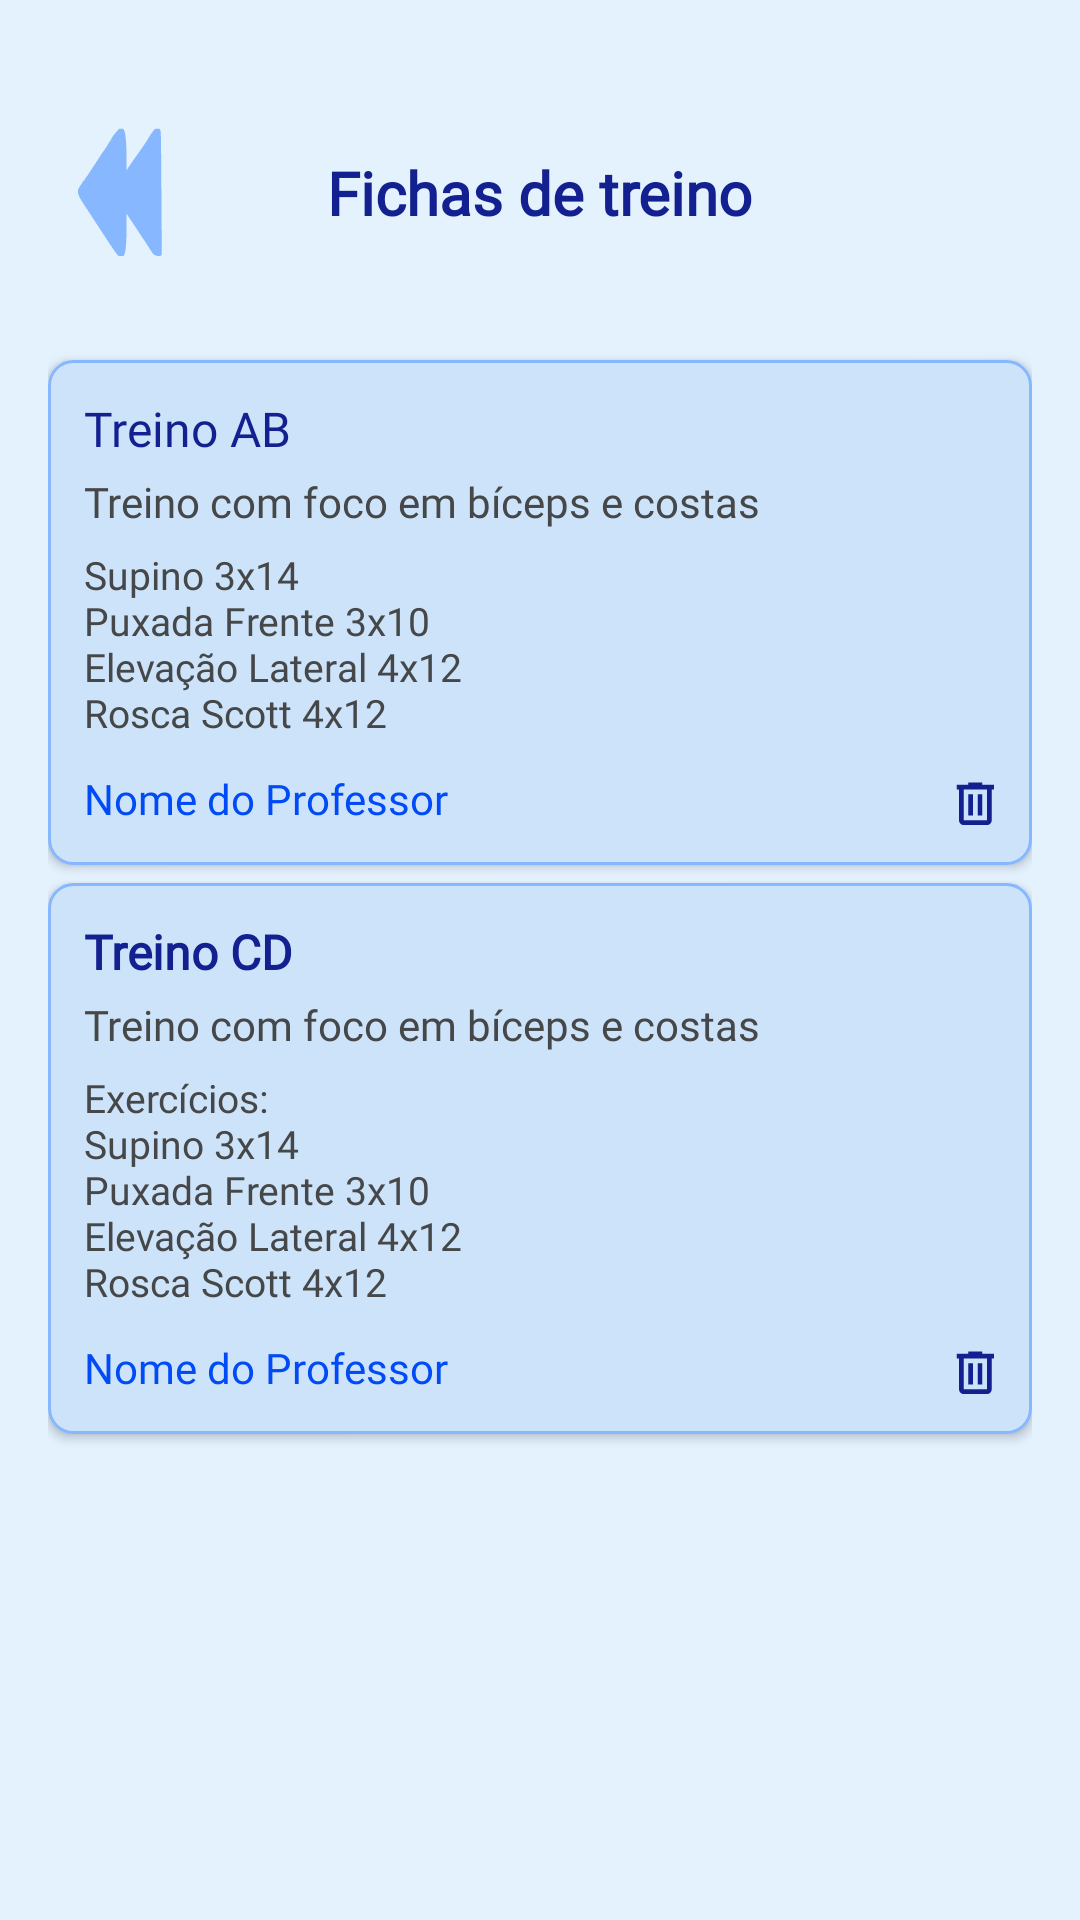

Named icons in this screenshot (1080w x 1920h) and their centers, [x,y]:
Excluir: [975,803], [975,1372]
